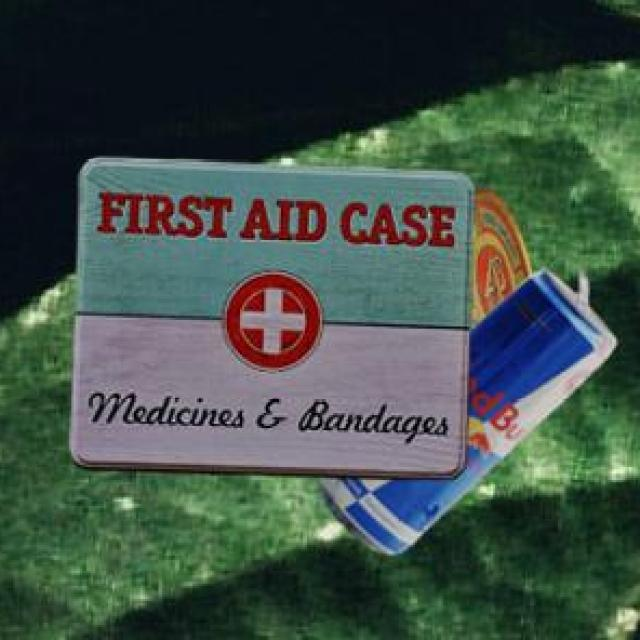logam: (72, 161, 477, 481), (323, 271, 619, 557), (474, 191, 535, 334)
